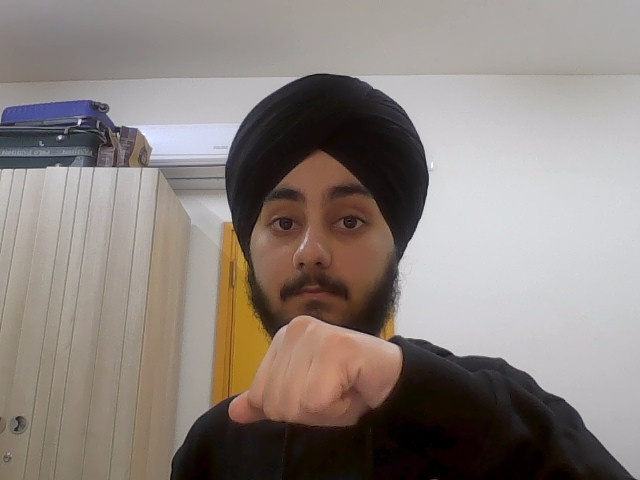Yes: (224, 313, 404, 434)
